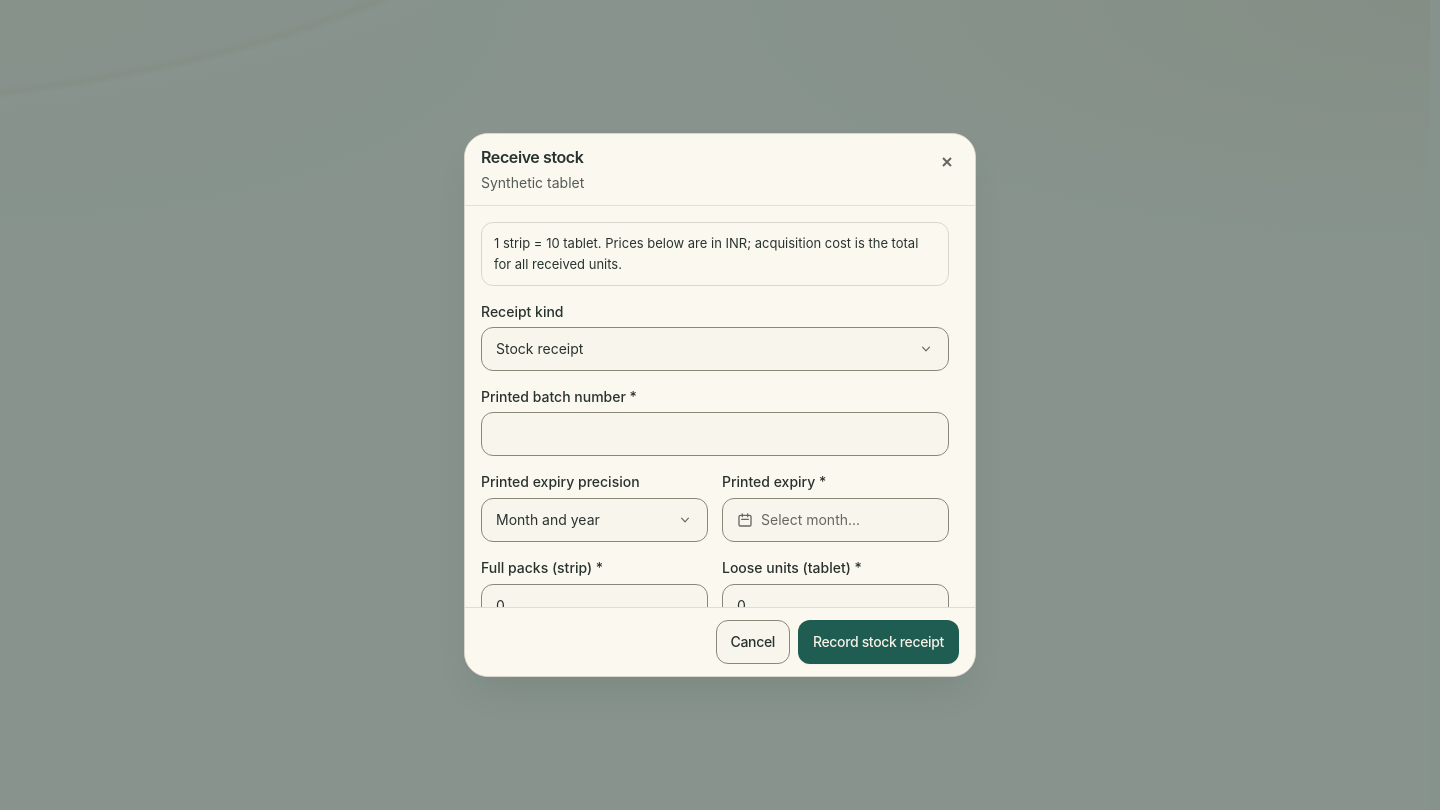
requires actual receipt details before reserving a key or posting stock
Step 1. Click the button "Record stock receipt" → click(878, 642), box [798, 620, 959, 664]
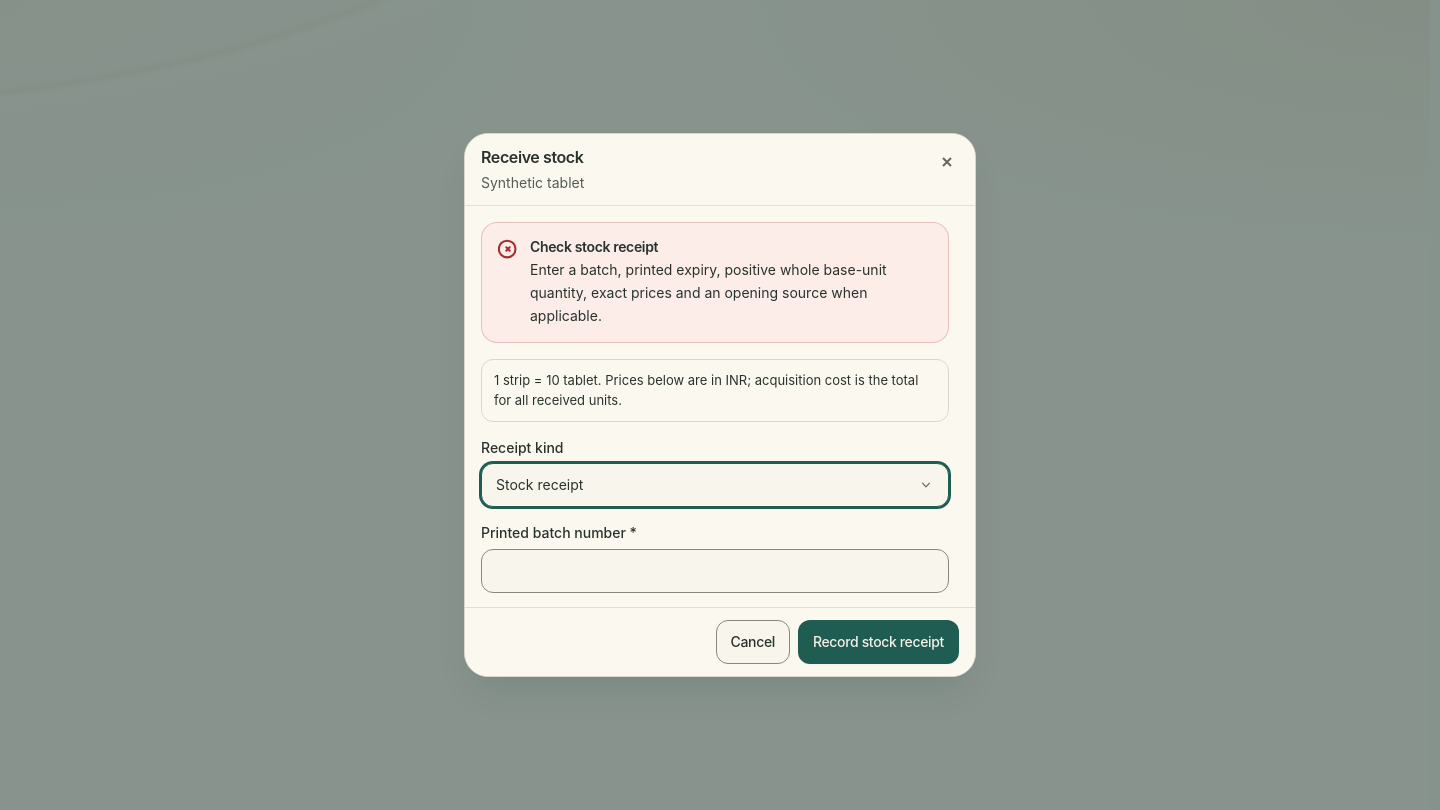
Expected: the text "Enter a batch, printed expiry" is shown, [530, 261, 887, 324]
